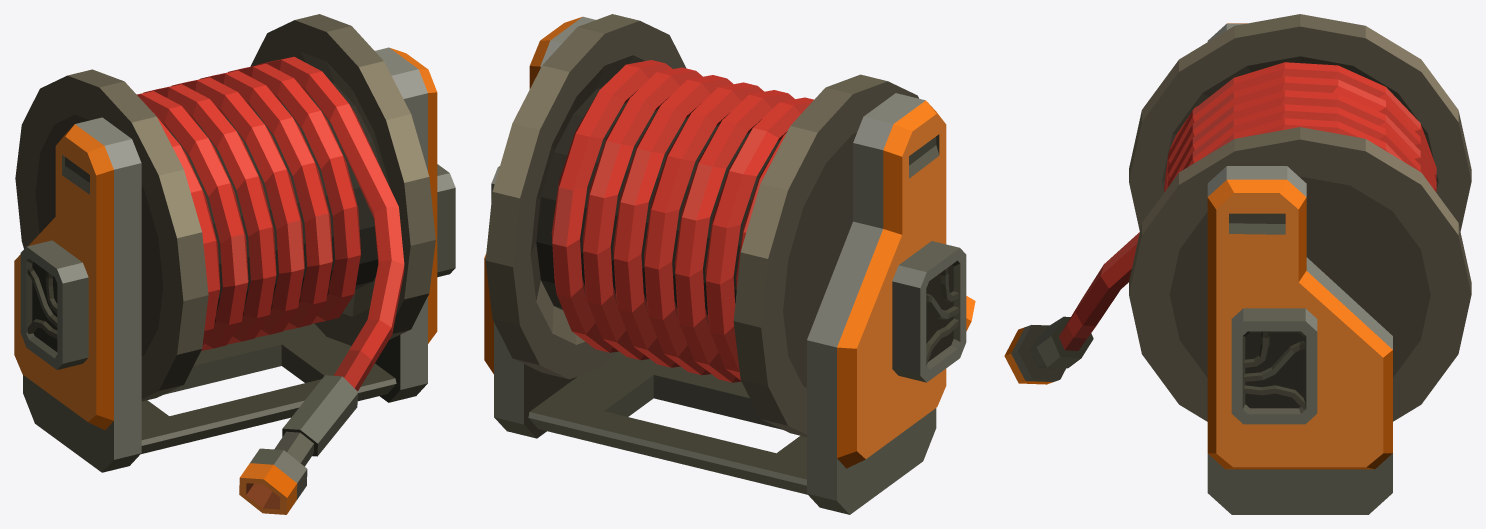
Rendered from CRM_Reactor_HoseReel.fbx.
3 views of the same model, side by side, from view 1: azimuth 30°, elevation 25°; view 2: azimuth 150°, elevation 25°; view 3: azimuth 270°, elevation 25° (orthographic). The views are drawn at different scales.
Parts seen in each view (by area): view 1: CRM_Reactor_HoseReel; view 2: CRM_Reactor_HoseReel; view 3: CRM_Reactor_HoseReel.
Part boxes in pixels (bbox=[...]): CRM_Reactor_HoseReel: bbox=[14, 14, 455, 514]; CRM_Reactor_HoseReel: bbox=[484, 14, 975, 514]; CRM_Reactor_HoseReel: bbox=[1004, 14, 1471, 514].
Bounding box in the file's own units: 1.25 × 1.07 × 1.26.
